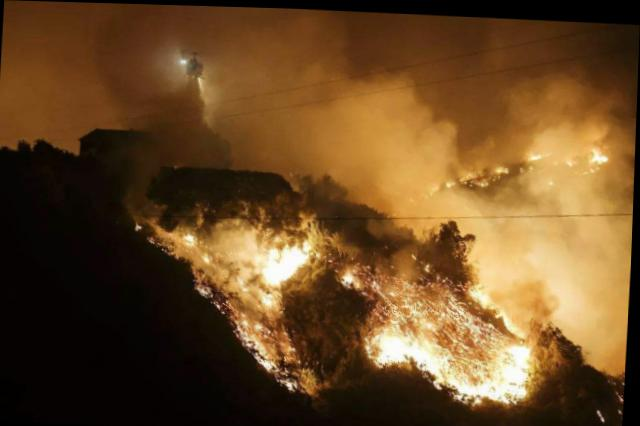fire: (151, 184, 336, 393), (338, 246, 549, 409), (390, 116, 617, 205)
